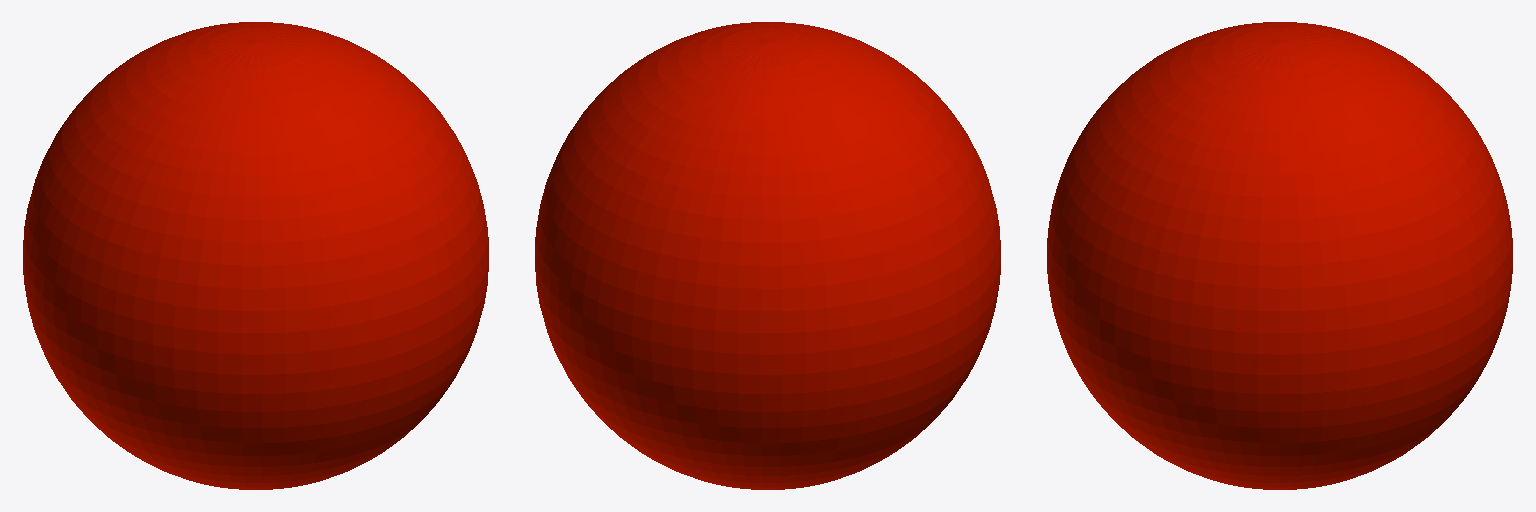
File: Sun.obj
3 views of the same model, side by side, from view 1: azimuth 30°, elevation 25°; view 2: azimuth 150°, elevation 25°; view 3: azimuth 270°, elevation 25° (orthographic).
Visible parts, largest first — view 1: Sphere; view 2: Sphere; view 3: Sphere.
Boxes of the visible parts, x1=… form: Sphere: x1=23, y1=22, x2=488, y2=489; Sphere: x1=535, y1=22, x2=1000, y2=489; Sphere: x1=1047, y1=22, x2=1512, y2=489.
Bounding box in the file's own units: 0.7923 × 0.7992 × 0.7923.